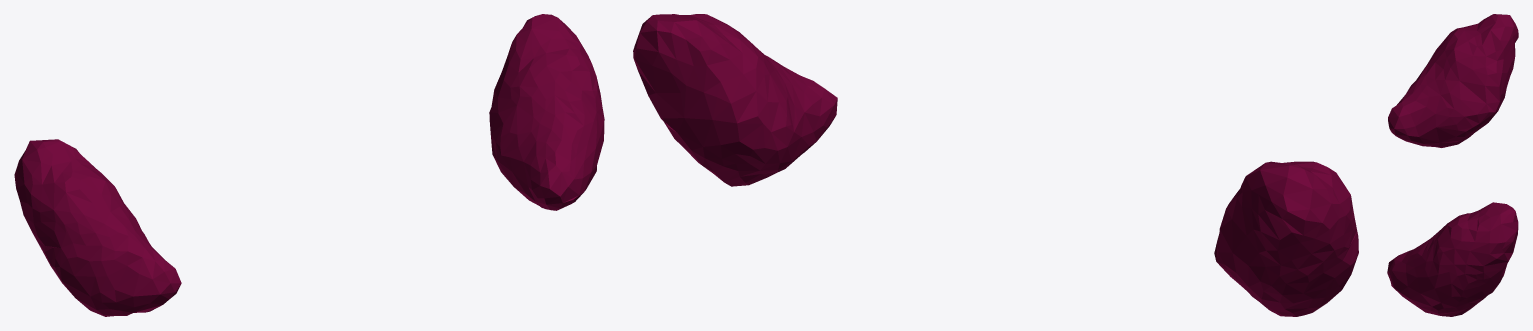
Rendered from 67-LGN-lateral geniculate nucleus-('0.4980', '0.0000', '0.2471').obj.
3 renders of one model, left to right at view 1: azimuth 30°, elevation 25°; view 2: azimuth 150°, elevation 25°; view 3: azimuth 270°, elevation 25°, orthographic. The views are drawn at different scales.
Bounding box in the file's own units: 179 × 46.48 × 46.27.
